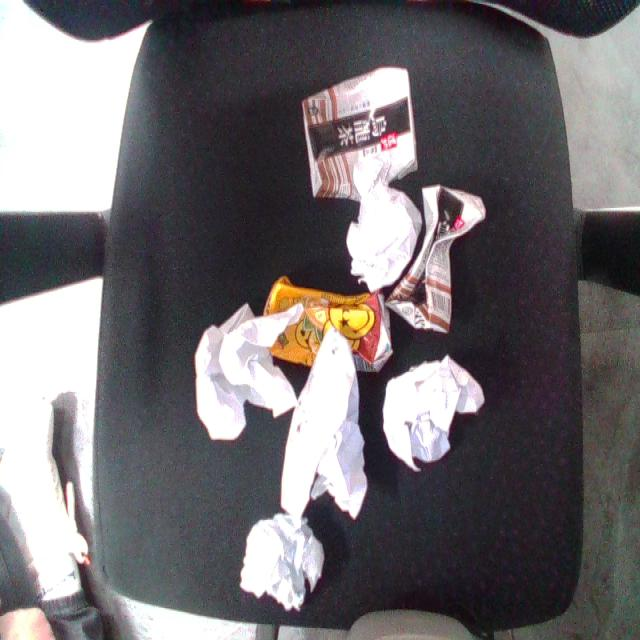juicebox: (279, 50, 439, 216), (367, 164, 499, 351), (249, 262, 417, 373)
paper: (256, 313, 436, 544), (340, 338, 510, 498), (187, 292, 323, 461), (329, 170, 453, 303), (234, 501, 333, 621)
